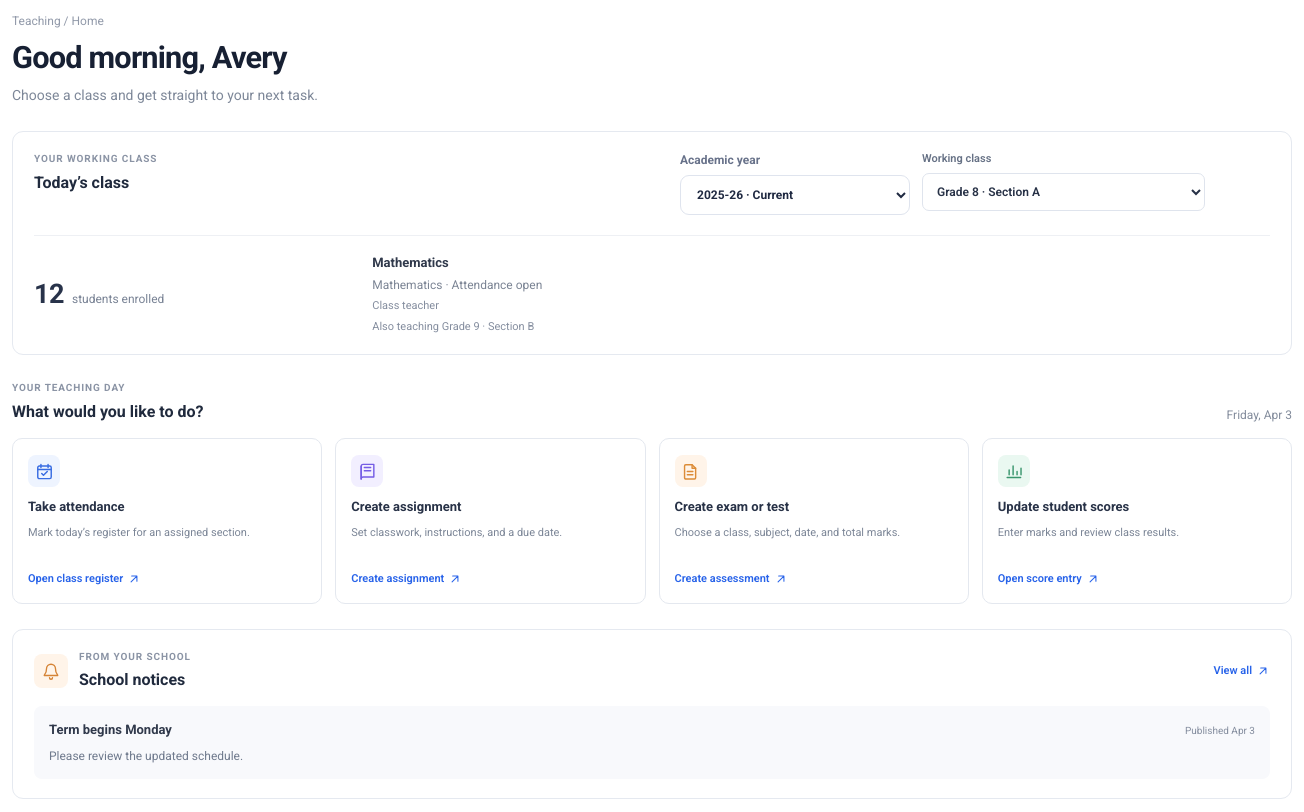
Scenario: TeacherDashboardView › switches the working class and shows its real enrollment count
Select "Grade 9 · Section B" in the dropdown labelled "Working class" at x=1064, y=192, box [922,173,1205,211]
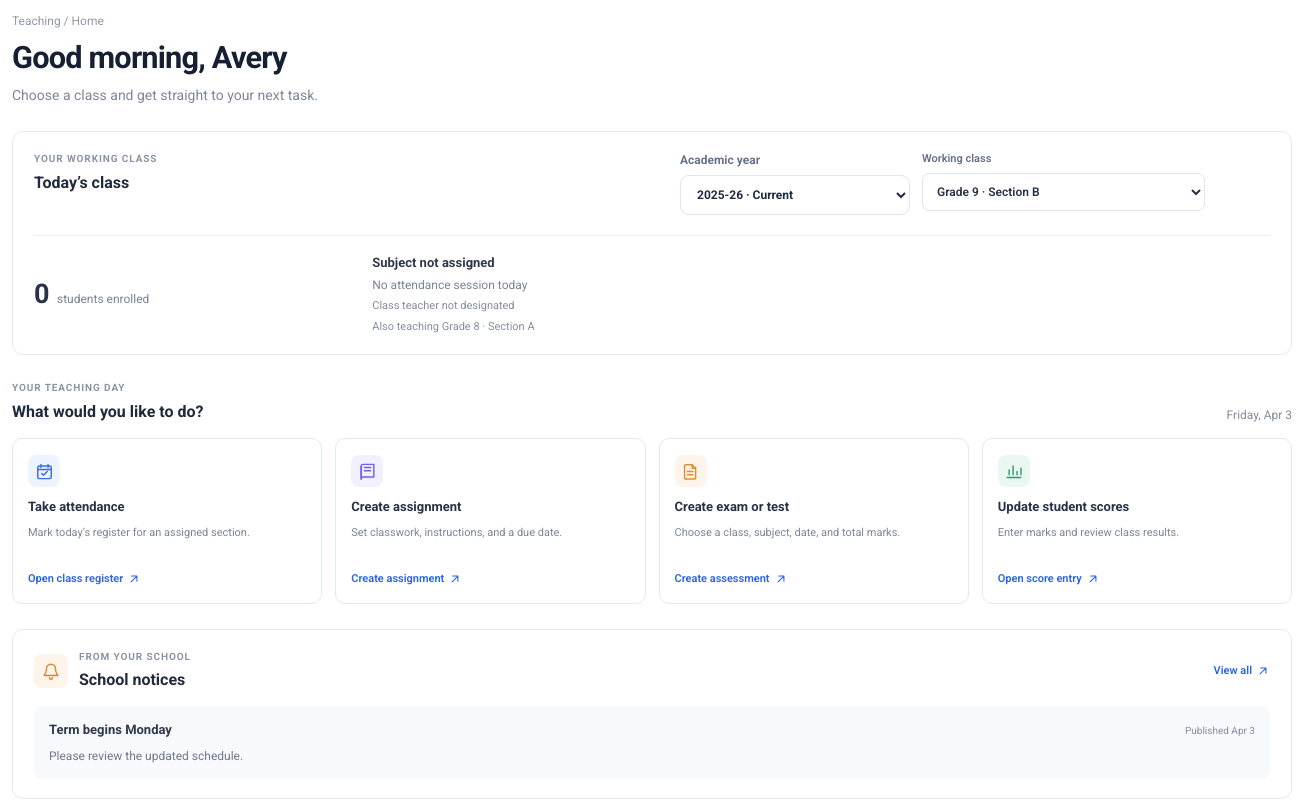
Check: the text "students enrolled" is shown, box [57,290,149,308]
Check: the text "0" is shown, box [34,274,49,314]
